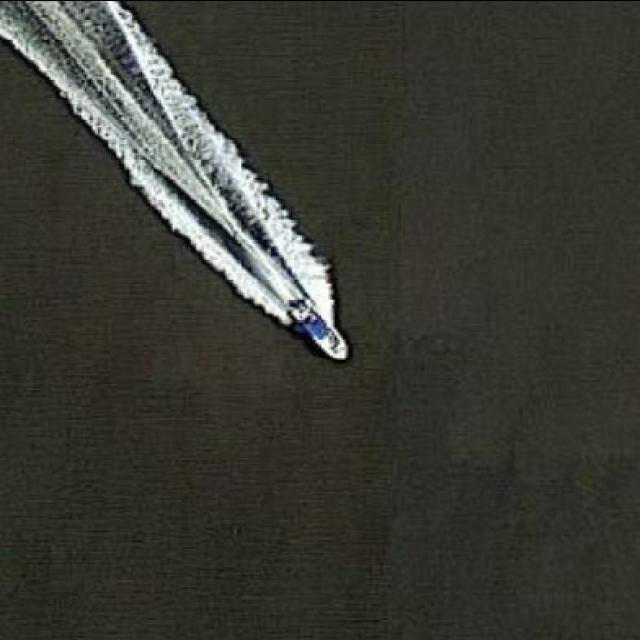ship: (266, 277, 356, 368)
